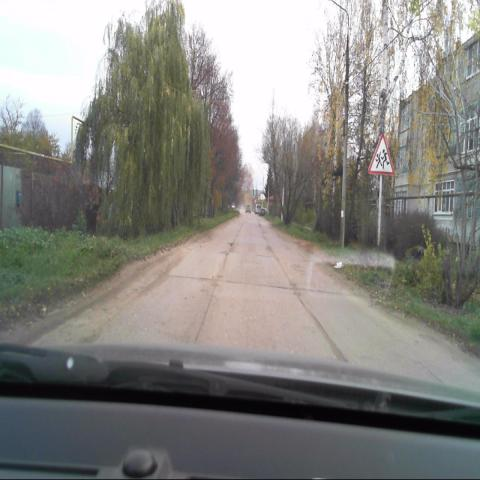1_23: (366, 132, 394, 174)
